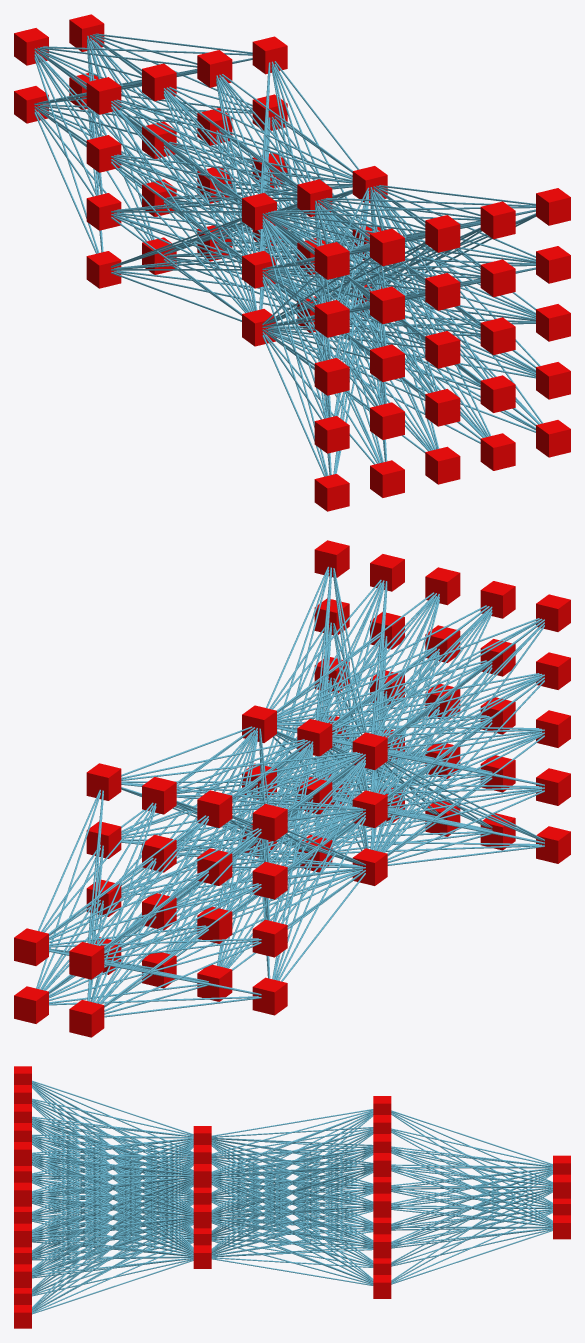
File: neural-network.glb
3 views of the same model, one above another, from view 1: azimuth 30°, elevation 25°; view 2: azimuth 150°, elevation 25°; view 3: azimuth 270°, elevation 25° (orthographic). The views are drawn at different scales.
Parts seen in each view (by area): view 1: Sweep, Cube_1_0, Cube_1_12, Cube_1_3, Cube_1_5, Cube_1_7, Cube_1_8, Cube_1_20, Cube_1_23, Cube_1_2, Cube_1_10, Cube_1_13 (+34 smaller); view 2: Sweep, Cube_4_0, Cube_4_2, Cube_4_3, Cube_4_1, Cube_3_0, Cube_3_12, Cube_3_15, Cube_3_4, Cube_3_13, Cube_3_8, Cube_1_24 (+29 smaller); view 3: Sweep, Cube_3_7, Cube_3_11, Cube_2_5, Cube_2_2, Cube_2_8, Cube_3_3, Cube_3_15, Cube_1_14, Cube_1_19, Cube_4_1, Cube_4_3 (+15 smaller).
Boxes of the visible parts, box(x1,y1,x2,y2) form: Sweep: box(34, 33, 542, 476); Cube_1_0: box(314, 474, 349, 511); Cube_1_12: box(425, 331, 460, 368); Cube_1_3: box(480, 433, 515, 470); Cube_1_5: box(314, 416, 349, 453); Cube_1_7: box(425, 389, 460, 426); Cube_1_8: box(480, 375, 515, 412); Cube_1_20: box(314, 242, 349, 279); Cube_1_23: box(480, 201, 515, 239); Cube_1_2: box(425, 446, 460, 484); Cube_1_10: box(314, 358, 349, 395); Cube_1_13: box(480, 317, 515, 355); Sweep: box(36, 566, 544, 1017); Cube_4_0: box(69, 1000, 104, 1037); Cube_4_2: box(69, 942, 104, 979); Cube_4_3: box(14, 928, 48, 965); Cube_4_1: box(14, 986, 48, 1023); Cube_3_0: box(252, 977, 287, 1015); Cube_3_12: box(252, 804, 287, 841); Cube_3_15: box(86, 763, 121, 800); Cube_3_4: box(252, 919, 287, 957); Cube_3_13: box(197, 790, 232, 827); Cube_3_8: box(252, 861, 287, 899); Cube_1_24: box(314, 540, 349, 577); Sweep: box(32, 1080, 552, 1314); Cube_3_7: box(373, 1234, 391, 1258); Cube_3_11: box(373, 1193, 391, 1217); Cube_2_5: box(193, 1204, 211, 1228); Cube_2_2: box(193, 1245, 211, 1268); Cube_2_8: box(193, 1164, 211, 1187); Cube_3_3: box(373, 1275, 391, 1298); Cube_3_15: box(373, 1153, 391, 1176); Cube_1_14: box(14, 1223, 31, 1247); Cube_1_19: box(14, 1182, 31, 1206); Cube_4_1: box(553, 1215, 570, 1239); Cube_4_3: box(553, 1174, 570, 1198).
Size of the model in its own units: 22 by 22 by 62.
